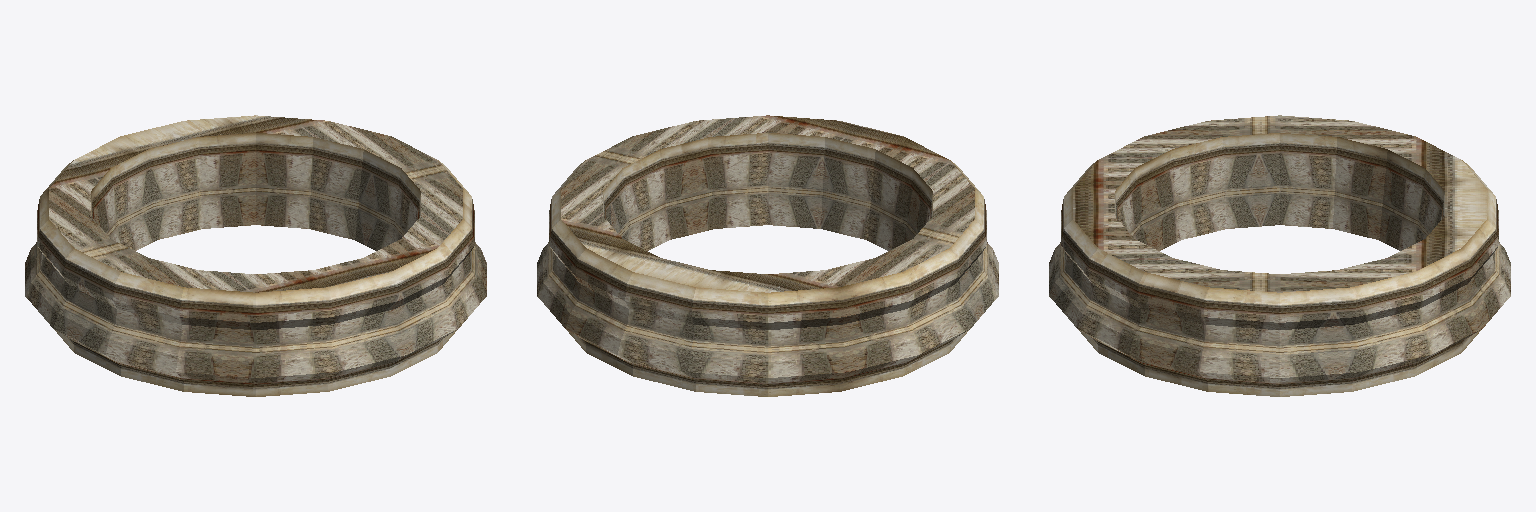
3 renders of one model, left to right at view 1: azimuth 30°, elevation 25°; view 2: azimuth 150°, elevation 25°; view 3: azimuth 270°, elevation 25°, orthographic.
Visible parts, largest first — view 1: palm_stonebase; view 2: palm_stonebase; view 3: palm_stonebase.
Part boxes in pixels (bbox=[...]): palm_stonebase: bbox=[25, 115, 486, 396]; palm_stonebase: bbox=[537, 115, 998, 396]; palm_stonebase: bbox=[1049, 115, 1510, 396].
Bounding box in the file's own units: 5.35 × 1.32 × 5.27.
Materials: 1 (1 with a texture image).